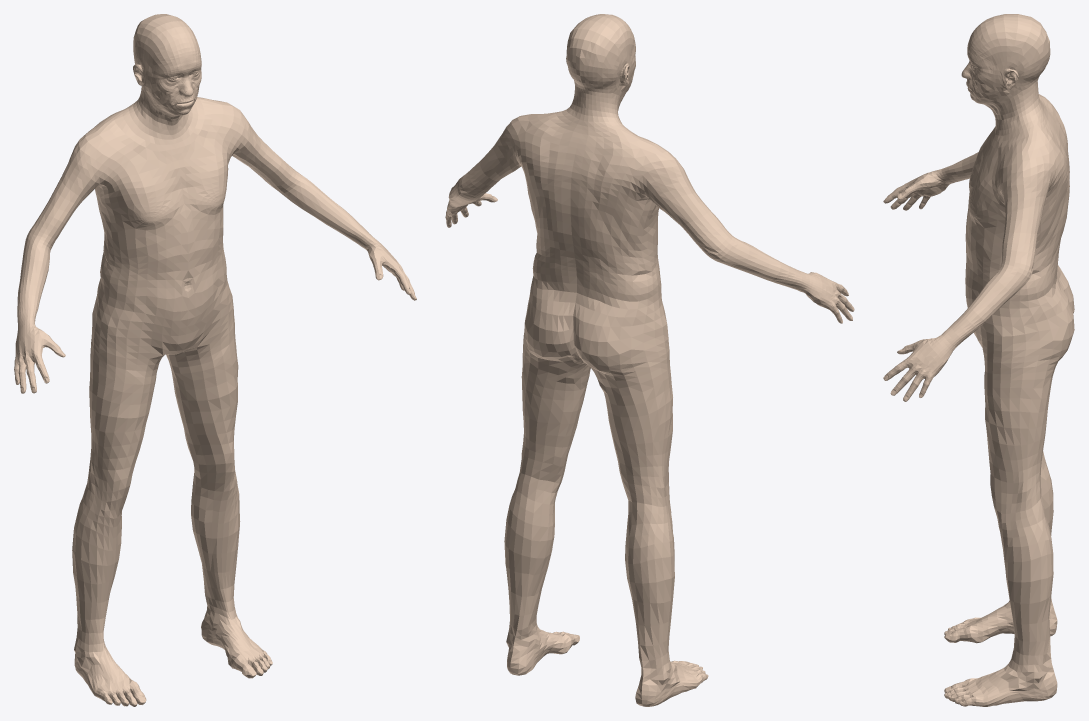
File: male-older-average-low.glb
The picture shows the model from 3 angles, left to right: view 1: azimuth 30°, elevation 25°; view 2: azimuth 150°, elevation 25°; view 3: azimuth 270°, elevation 25°; orthographic projection.
Parts seen in each view (by area): view 1: world; view 2: world; view 3: world.
Part boxes in pixels (x1=…): world: x1=14, y1=14, x2=416, y2=706; world: x1=445, y1=14, x2=854, y2=706; world: x1=883, y1=14, x2=1074, y2=706.
Bounding box in the file's own units: 1.22 × 1.93 × 0.5129.
